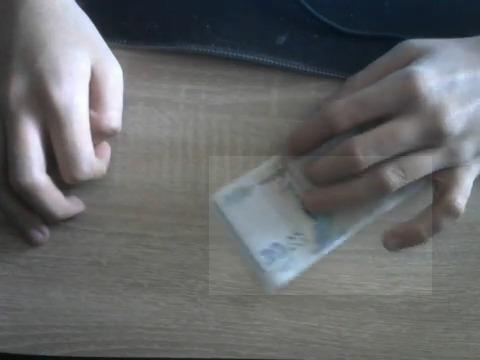20leva: (209, 156, 432, 295)
